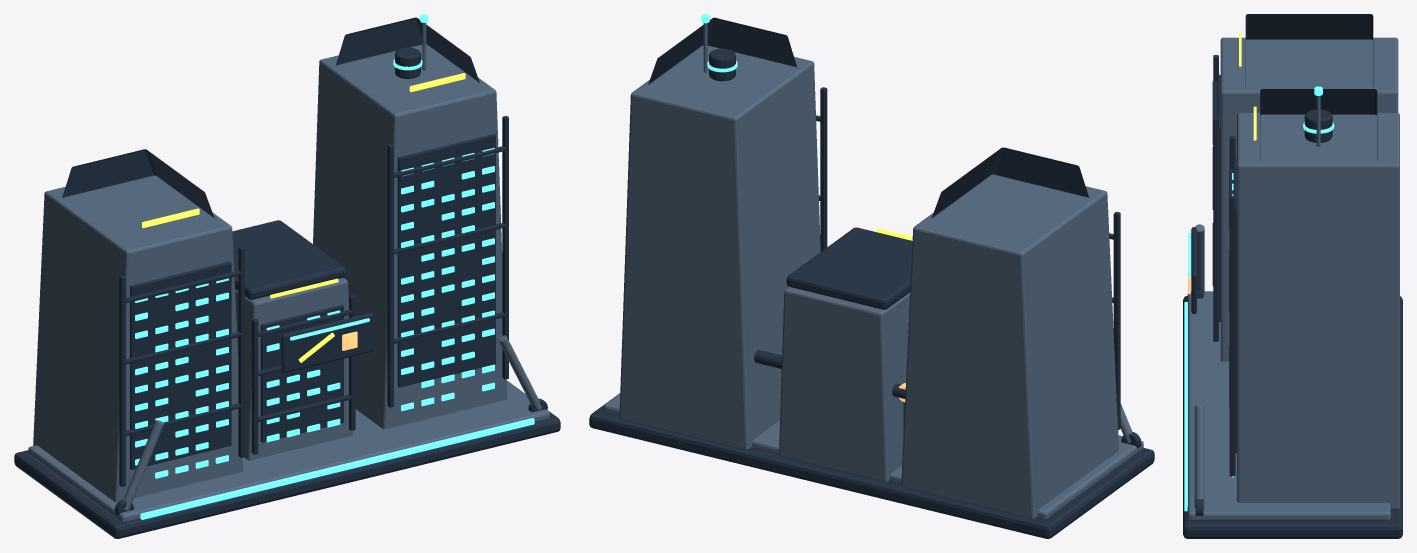
The model's file is EchoMegacityDistrictA.fbx.
3 views of the same model, side by side, from view 1: azimuth 30°, elevation 25°; view 2: azimuth 150°, elevation 25°; view 3: azimuth 270°, elevation 25° (orthographic). The views are drawn at different scales.
Visible parts, largest first — view 1: EchoStructure_Geometry, EchoDepth_Geometry, EchoCyan_Geometry, EchoGold_Geometry; view 2: EchoStructure_Geometry, EchoDepth_Geometry; view 3: EchoStructure_Geometry, EchoDepth_Geometry, EchoCyan_Geometry.
Part boxes in pixels (x1,y1,x2,y2): EchoStructure_Geometry: (28,23,549,522); EchoDepth_Geometry: (14,17,560,538); EchoCyan_Geometry: (135,14,534,519); EchoGold_Geometry: (142,73,465,362); EchoStructure_Geometry: (604,23,1143,519); EchoDepth_Geometry: (589,17,1154,538); EchoStructure_Geometry: (1187,37,1399,520); EchoDepth_Geometry: (1183,14,1402,538); EchoCyan_Geometry: (1184,86,1334,511).
Bounding box in the file's own units: 15 × 12.48 × 6.
